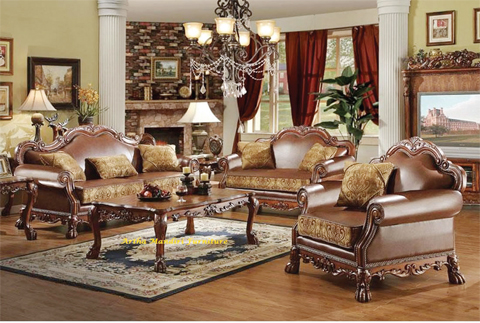Carving Chair: (288, 150, 459, 282)
Carving Table: (88, 186, 258, 264)
